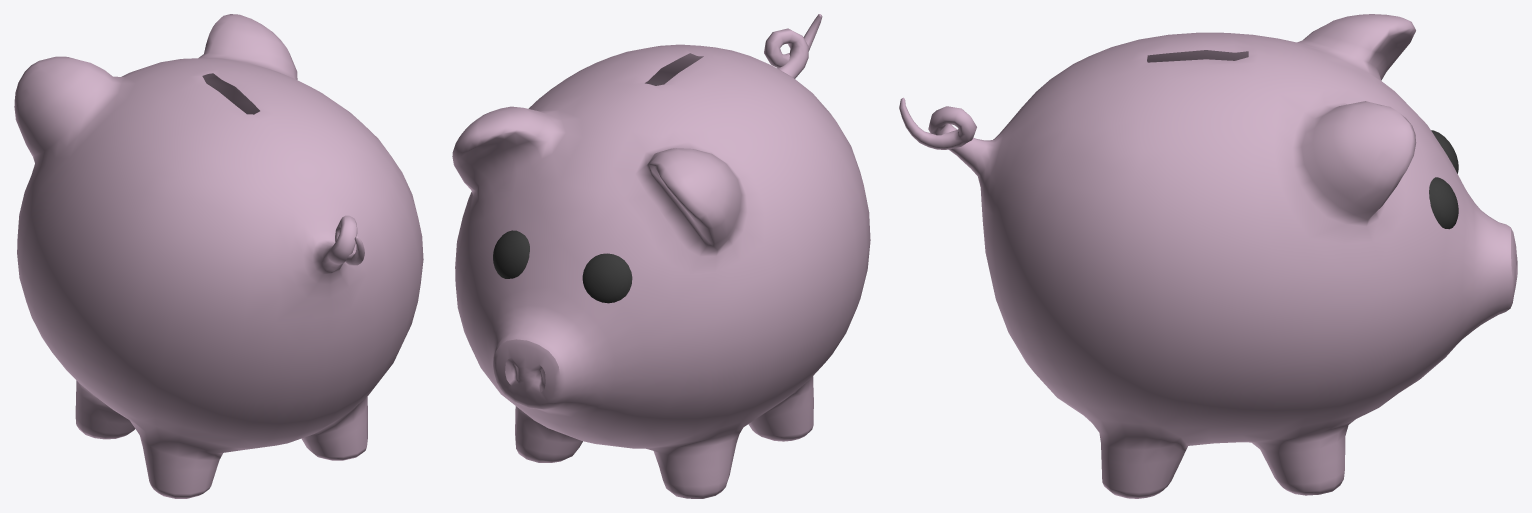
The model's file is PiggyBank_Character.fbx.
3 renders of one model, left to right at view 1: azimuth 30°, elevation 25°; view 2: azimuth 150°, elevation 25°; view 3: azimuth 270°, elevation 25°, orthographic. The views are drawn at different scales.
Parts seen in each view (by area): view 1: Piggy_Bank; view 2: Piggy_Bank; view 3: Piggy_Bank.
Part boxes in pixels (x1,y1,x2,y2): Piggy_Bank: [14, 14, 423, 498]; Piggy_Bank: [452, 14, 870, 498]; Piggy_Bank: [899, 14, 1517, 498].
Size of the model in its own units: 362 by 373 by 531.
